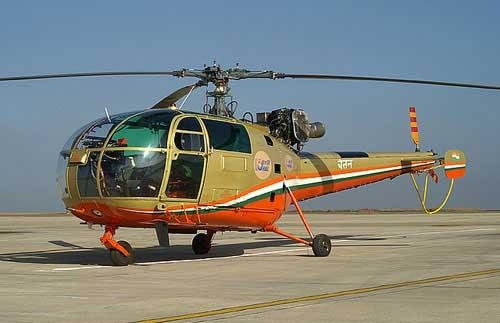airplane: (29, 60, 500, 264)
